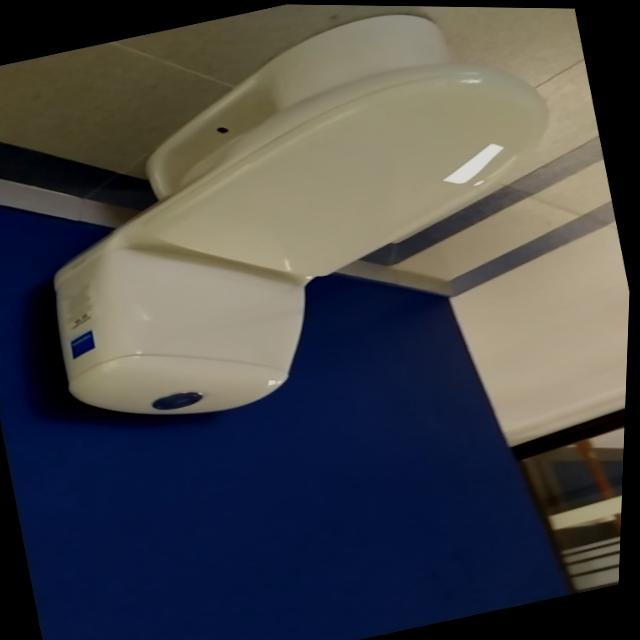toilet: (0, 0, 604, 448)
